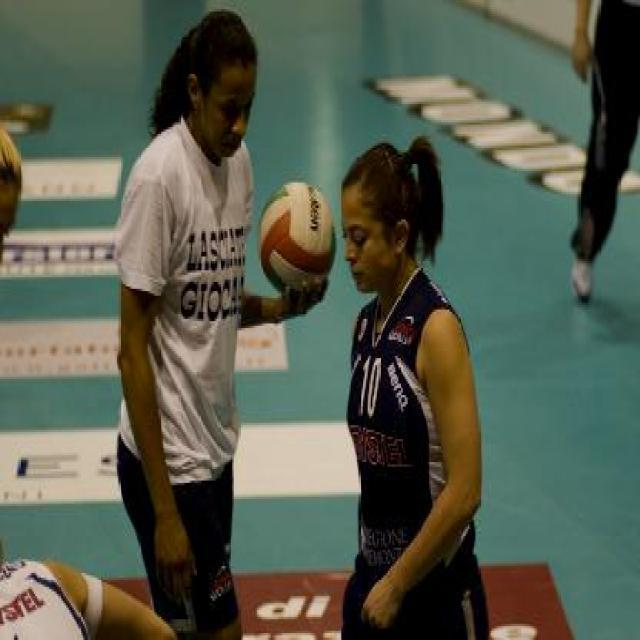volleyball: (257, 182, 336, 294)
